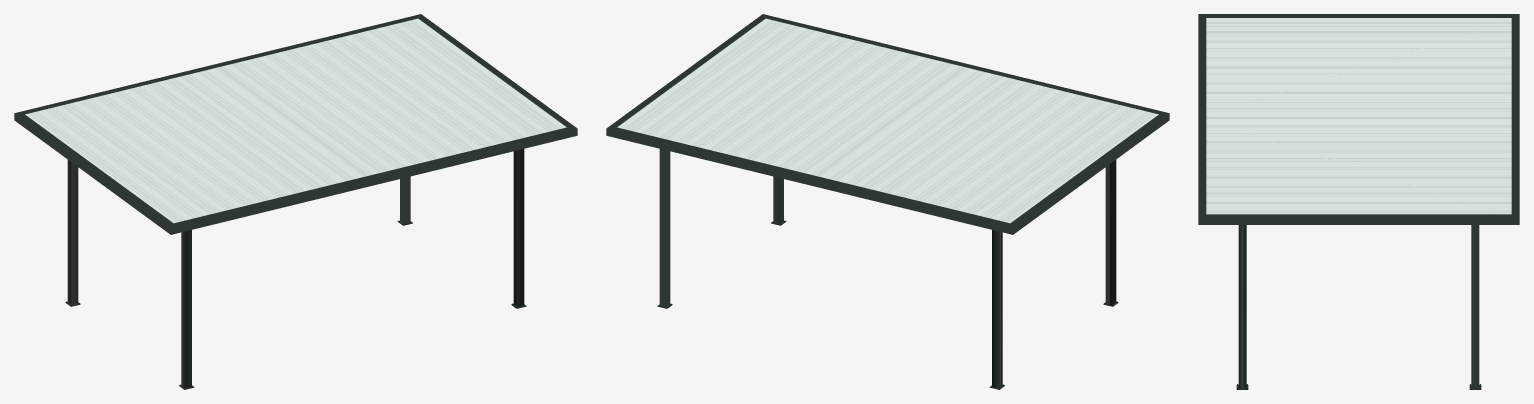
The picture shows the model from 3 angles, left to right: view 1: azimuth 30°, elevation 25°; view 2: azimuth 150°, elevation 25°; view 3: azimuth 270°, elevation 25°; orthographic projection. The views are drawn at different scales.
Parts seen in each view (by area): view 1: priximbattable_net_pergola_aluminium_29275_pergola_aluminium; view 2: priximbattable_net_pergola_aluminium_29275_pergola_aluminium; view 3: priximbattable_net_pergola_aluminium_29275_pergola_aluminium.
Boxes of the visible parts, left/top/right/bottom form: priximbattable_net_pergola_aluminium_29275_pergola_aluminium: left=14, top=14, right=577, bottom=389; priximbattable_net_pergola_aluminium_29275_pergola_aluminium: left=606, top=14, right=1169, bottom=389; priximbattable_net_pergola_aluminium_29275_pergola_aluminium: left=1198, top=14, right=1519, bottom=389.
Size of the model in its own units: 600 by 259 by 400.
Materials: 1 (1 with a texture image).
